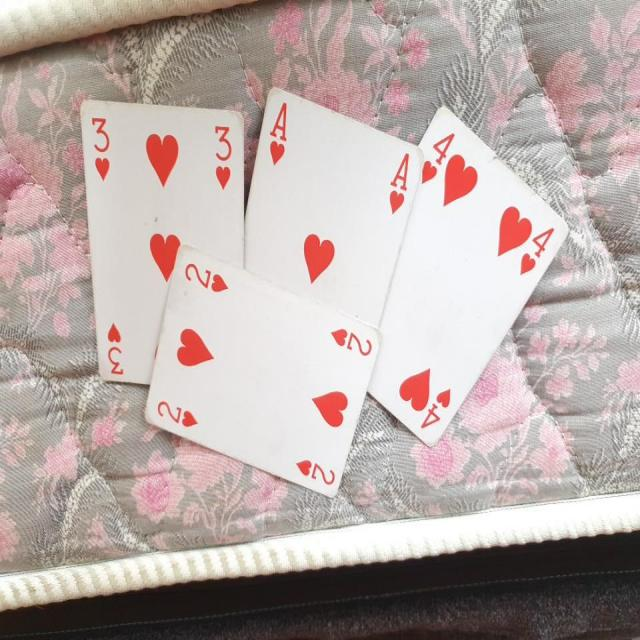2 Hearts: (134, 238, 387, 502)
3 Hearts: (72, 98, 250, 389)
4 Hearts: (361, 98, 574, 456)
A Hearts: (234, 78, 423, 401)
